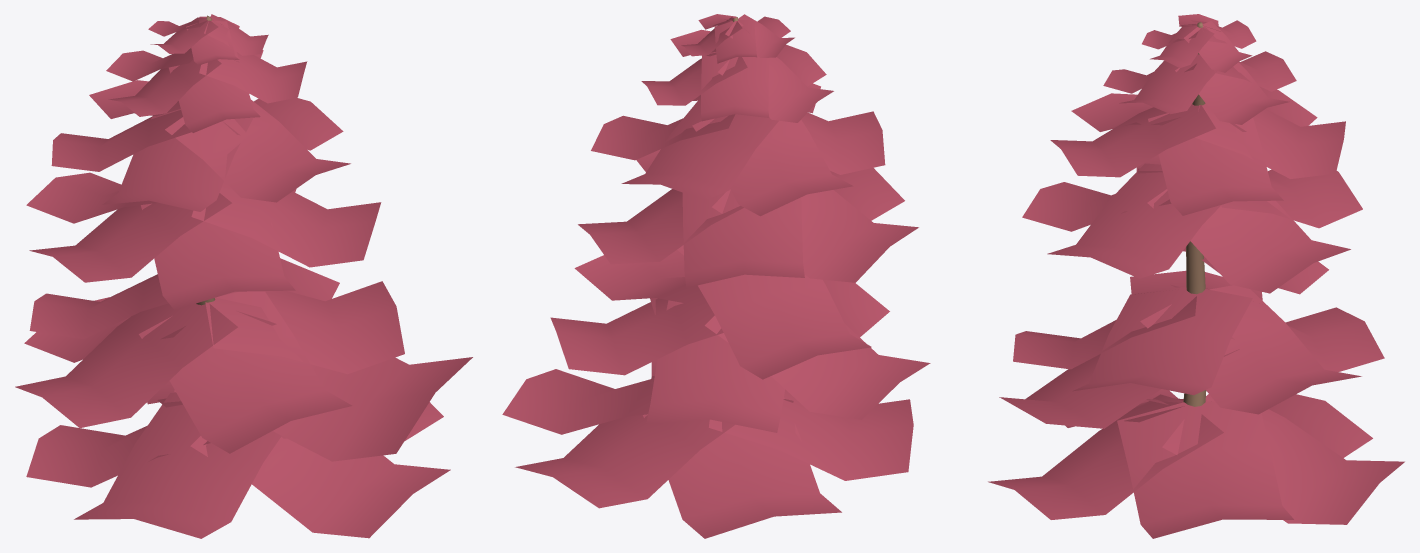
The model's file is Pine_3.glb.
3 renders of one model, left to right at view 1: azimuth 30°, elevation 25°; view 2: azimuth 150°, elevation 25°; view 3: azimuth 270°, elevation 25°, orthographic. The views are drawn at different scales.
Parts seen in each view (by area): view 1: Pine_3; view 2: Pine_3; view 3: Pine_3.
Boxes of the visible parts, x1,y1,x2,y2 form: Pine_3: (15,14,472,538); Pine_3: (502,14,930,538); Pine_3: (988,14,1404,538).
Bounding box in the file's own units: 6.88 × 8.1 × 7.29.
